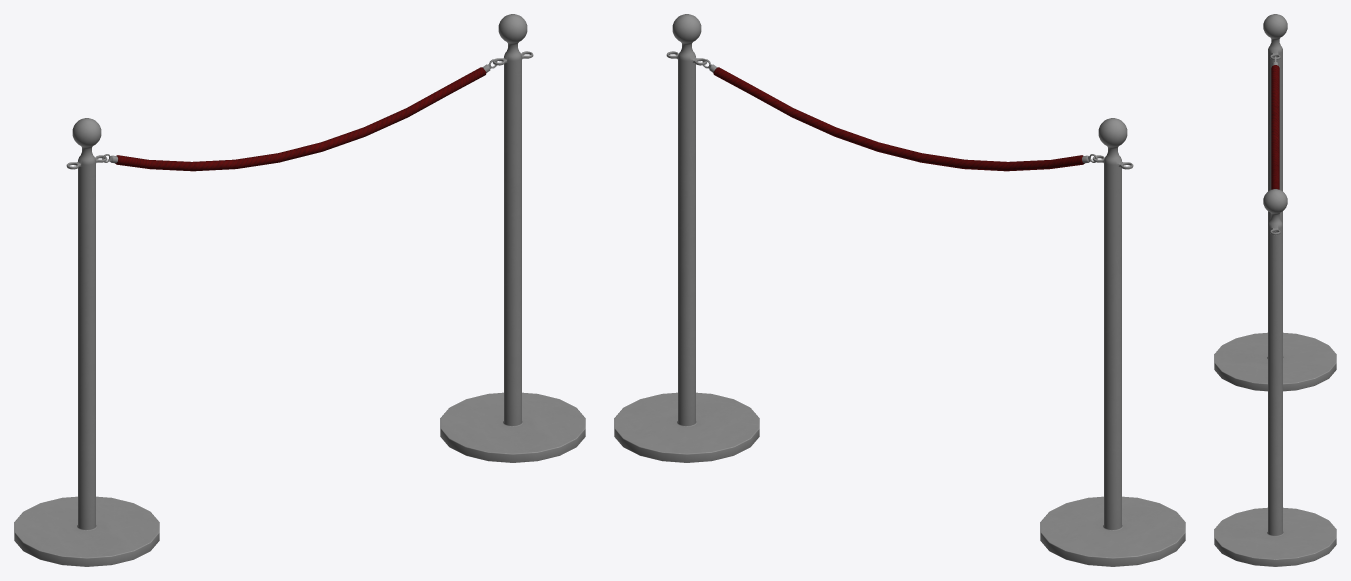
Rendered from RopeStand_Double.FBX.
3 renders of one model, left to right at view 1: azimuth 30°, elevation 25°; view 2: azimuth 150°, elevation 25°; view 3: azimuth 270°, elevation 25°, orthographic. The views are drawn at different scales.
Visible parts, largest first — view 1: RopeStand_Double; view 2: RopeStand_Double; view 3: RopeStand_Double.
Part boxes in pixels (box(x1,y1,x2,y2)): RopeStand_Double: box(14, 14, 585, 566); RopeStand_Double: box(614, 14, 1185, 566); RopeStand_Double: box(1214, 14, 1336, 566).
Bounding box in the file's own units: 130 × 93.52 × 29.54.
